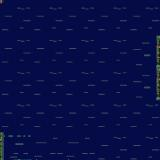Interaction: (0, 127, 17, 160)
Slow: (0, 0, 160, 160)
